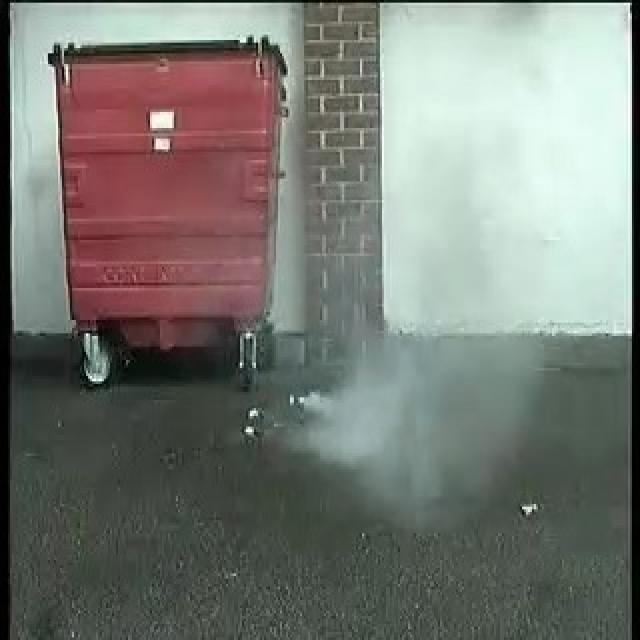smoke: (280, 307, 498, 484)
